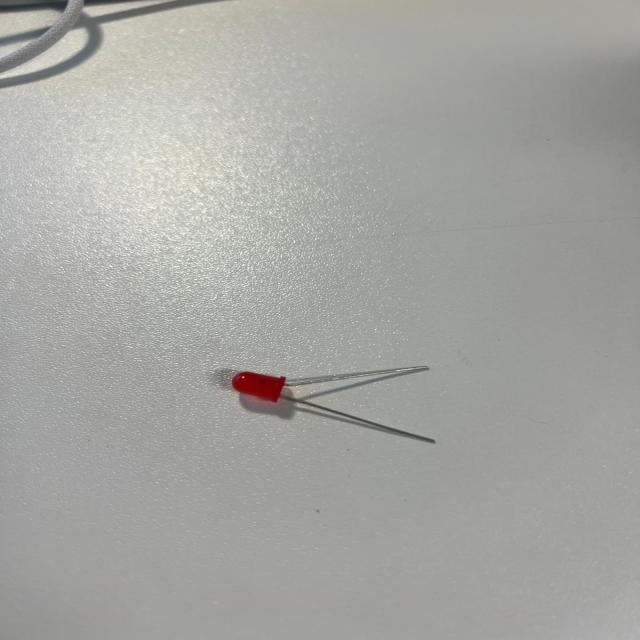REDLed: (196, 342, 459, 503)
